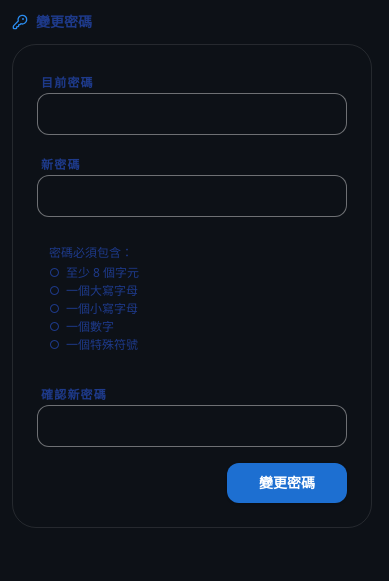
Scenario: ChangePassword 首次登入（一次性初始密碼） › 初始密碼打錯：只送一次、不續期，顯示「目前密碼不正確」、不登出
This screenshot has width=389, height=581.
Type "wrong-initial" into the password field labelled "目前密碼" at (192,114), box [37,93,347,135]
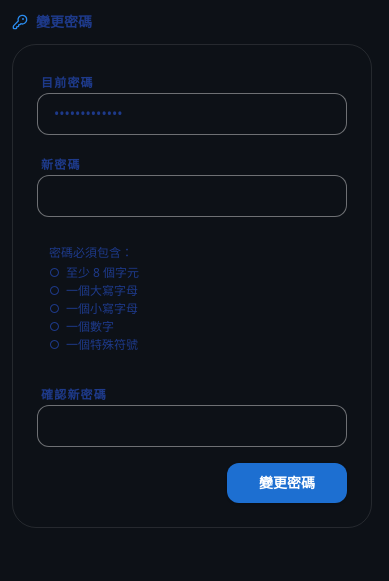
Type "NewPass1!" into the password field labelled "新密碼" at (192,196), box [37,175,347,217]
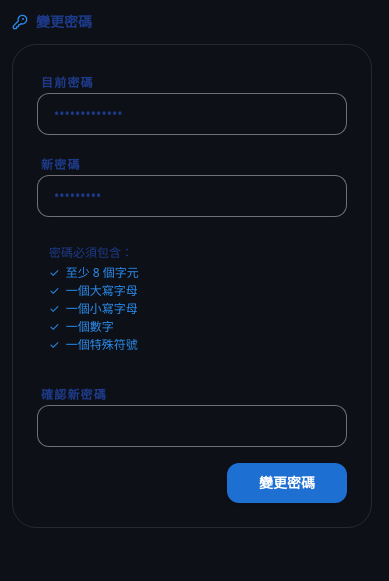
Type "NewPass1!" into the password field labelled "確認新密碼" at (192,426), box [37,405,347,447]
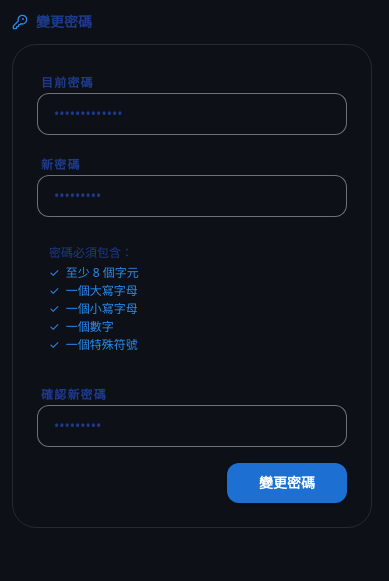
Click the button "變更密碼" at (287,483), box [227,463,347,503]
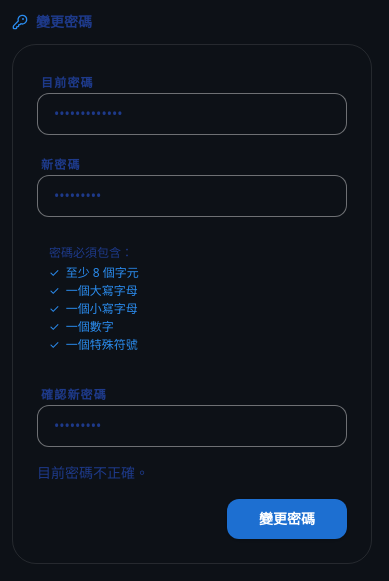
Expected: the text "目前密碼不正確。" is shown, [37,463,149,482]
